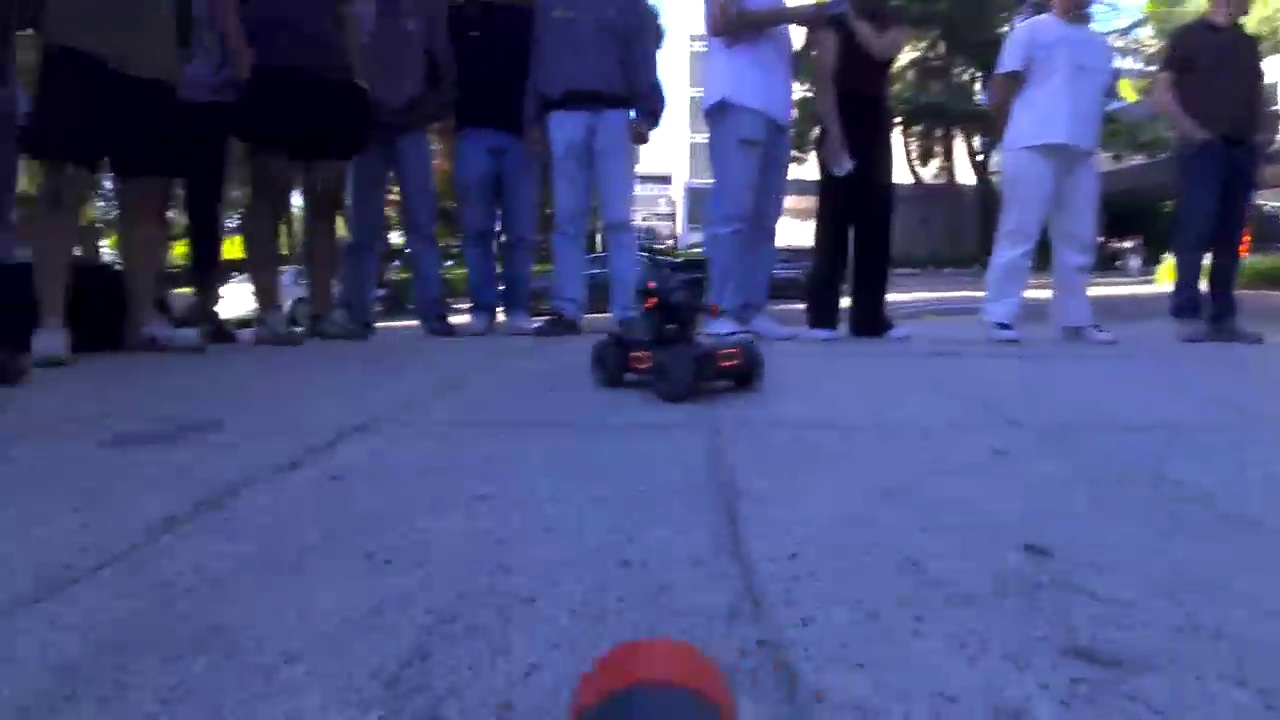robot: (583, 250, 776, 405)
